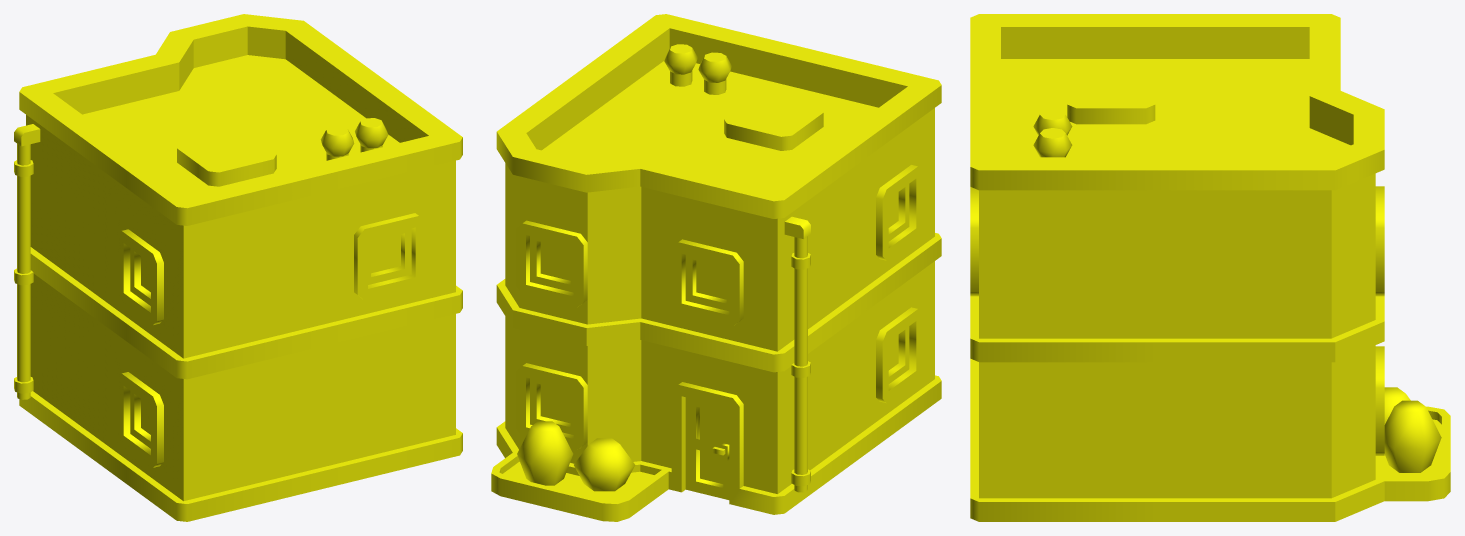
The model's file is commercial-2.glb.
The picture shows the model from 3 angles, left to right: view 1: azimuth 30°, elevation 25°; view 2: azimuth 150°, elevation 25°; view 3: azimuth 270°, elevation 25°; orthographic projection. The views are drawn at different scales.
Visible parts, largest first — view 1: building-c; view 2: building-c; view 3: building-c.
Part boxes in pixels (x1,y1,x2,y2): building-c: (14,14,462,521); building-c: (491,14,941,521); building-c: (970,14,1450,521).
Size of the model in its own units: 0.8836 by 0.893 by 1.09.
1 material, 1 textured.
